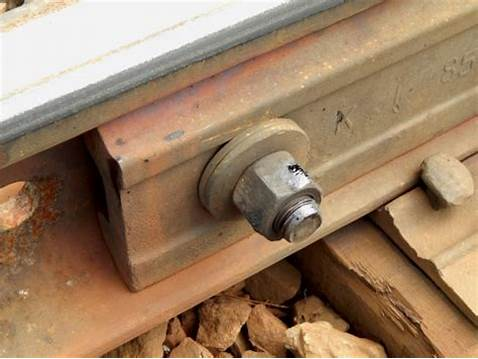bolt_b: (231, 148, 323, 243)
